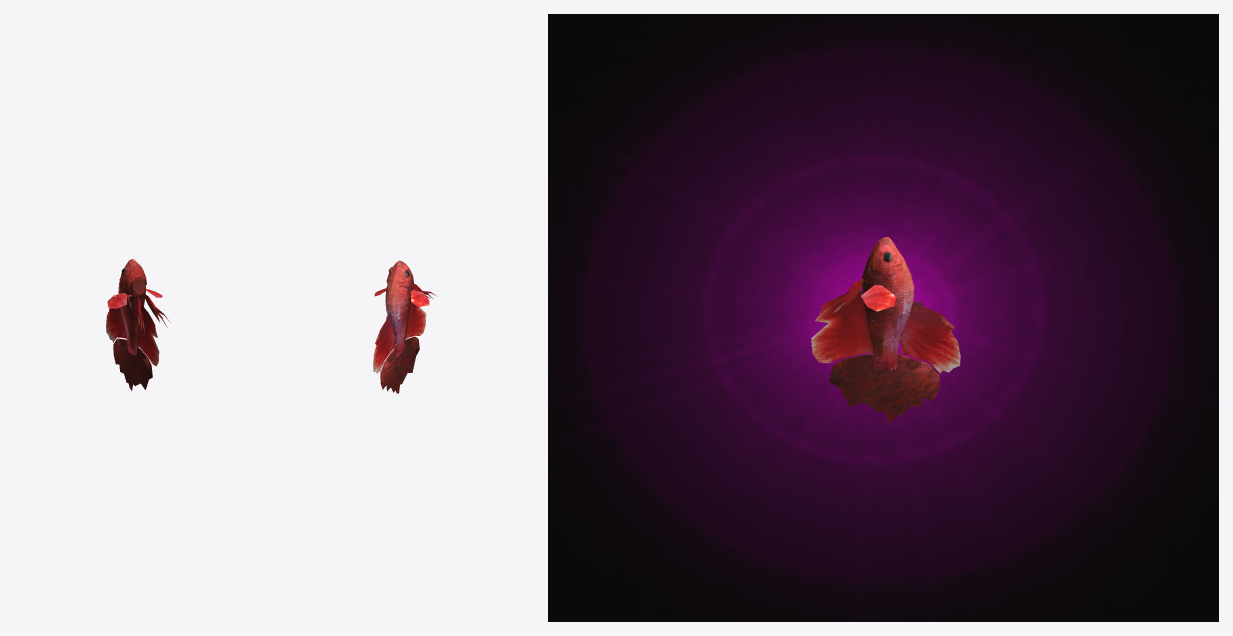
File: item_fish_nebula_fish.glb
3 views of the same model, side by side, from view 1: azimuth 30°, elevation 25°; view 2: azimuth 150°, elevation 25°; view 3: azimuth 270°, elevation 25° (orthographic). The views are drawn at different scales.
Visible parts, largest first — view 1: waternebula; view 2: waternebula; view 3: Quad, waternebula.
Part boxes in pixels (x1,y1,x2,y2): waternebula: (106, 259, 170, 390); waternebula: (373, 260, 437, 393); Quad: (548, 14, 1218, 621); waternebula: (811, 237, 960, 422).
Bounding box in the file's own units: 0.1429 × 1.1 × 1.1.
Materials: 2 (2 with a texture image).
